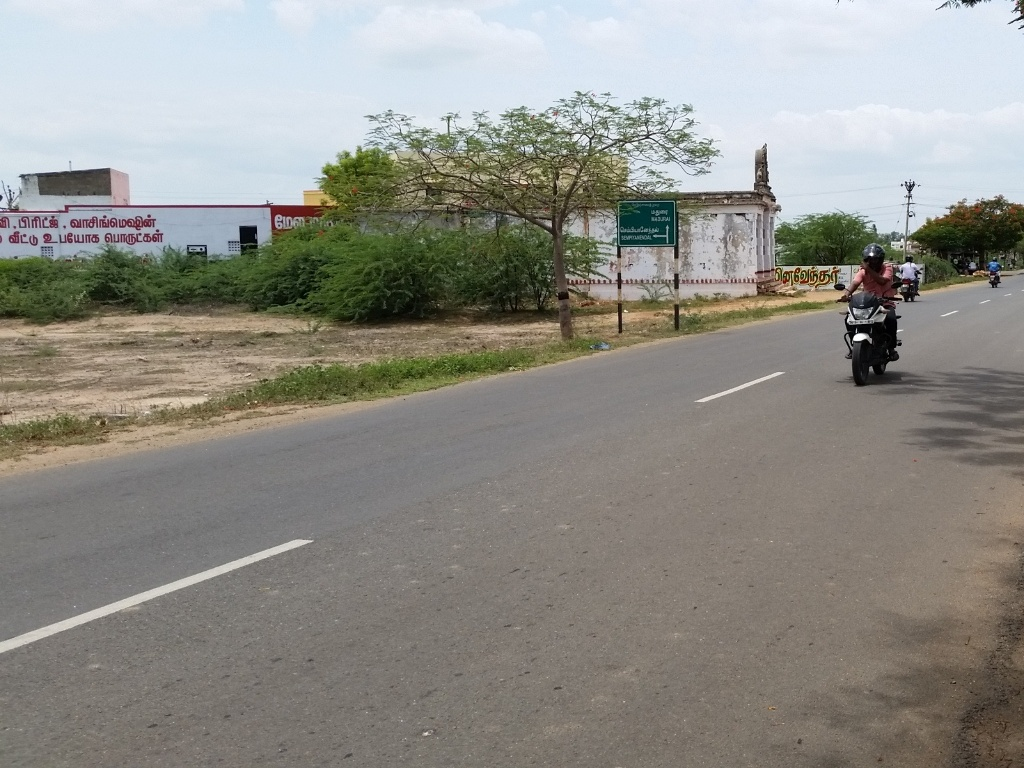biker: (823, 209, 926, 396)
helmet: (853, 235, 891, 286)
